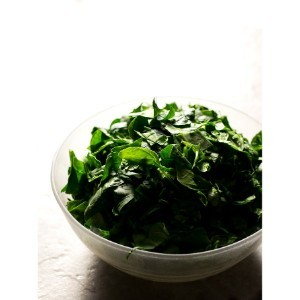spinach_brain food: (112, 112, 232, 225)
